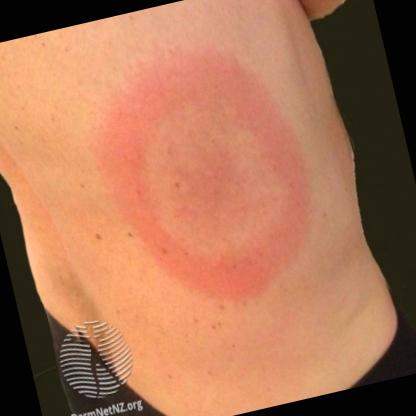Ringworm: (55, 5, 350, 342)
